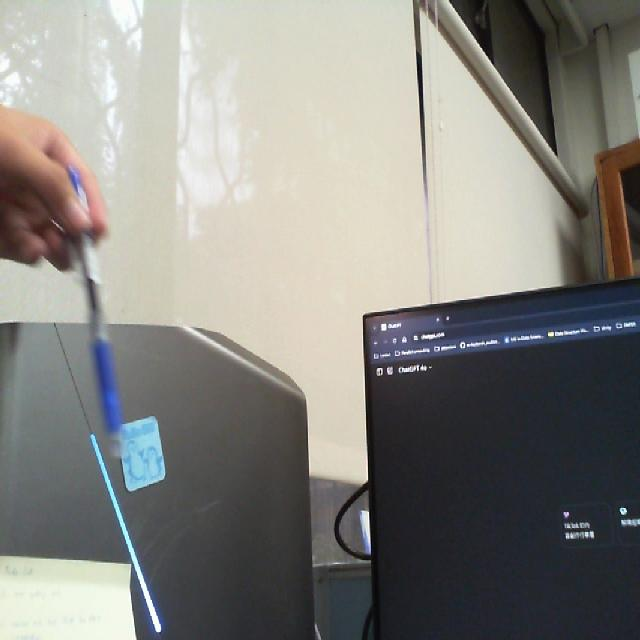Pen: (55, 148, 148, 478)
